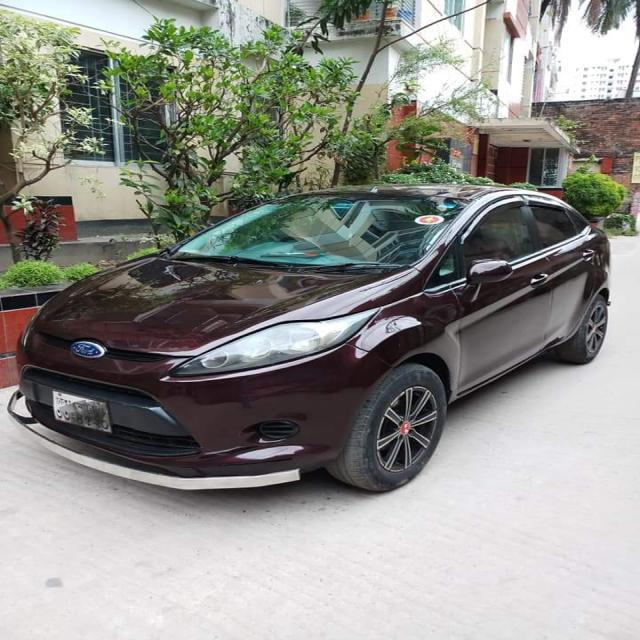maroon: (16, 146, 640, 479)
